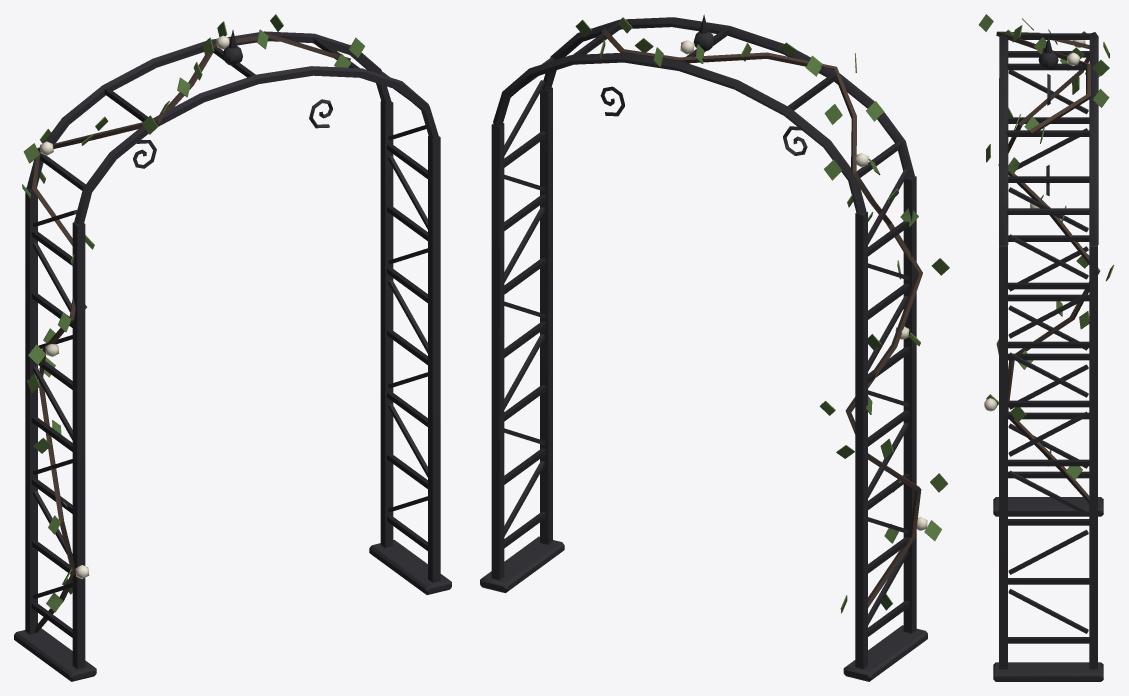
The model's file is arch_ironGate.glb.
The picture shows the model from 3 angles, left to right: view 1: azimuth 30°, elevation 25°; view 2: azimuth 150°, elevation 25°; view 3: azimuth 270°, elevation 25°; orthographic projection. The views are drawn at different scales.
Parts seen in each view (by area): view 1: arch_ironGate; view 2: arch_ironGate; view 3: arch_ironGate.
Part boxes in pixels (bbox=[...]): arch_ironGate: bbox=[14, 14, 451, 681]; arch_ironGate: bbox=[480, 14, 949, 681]; arch_ironGate: bbox=[978, 14, 1114, 681].
Bounding box in the file's own units: 1.77 × 2.46 × 0.5425.
